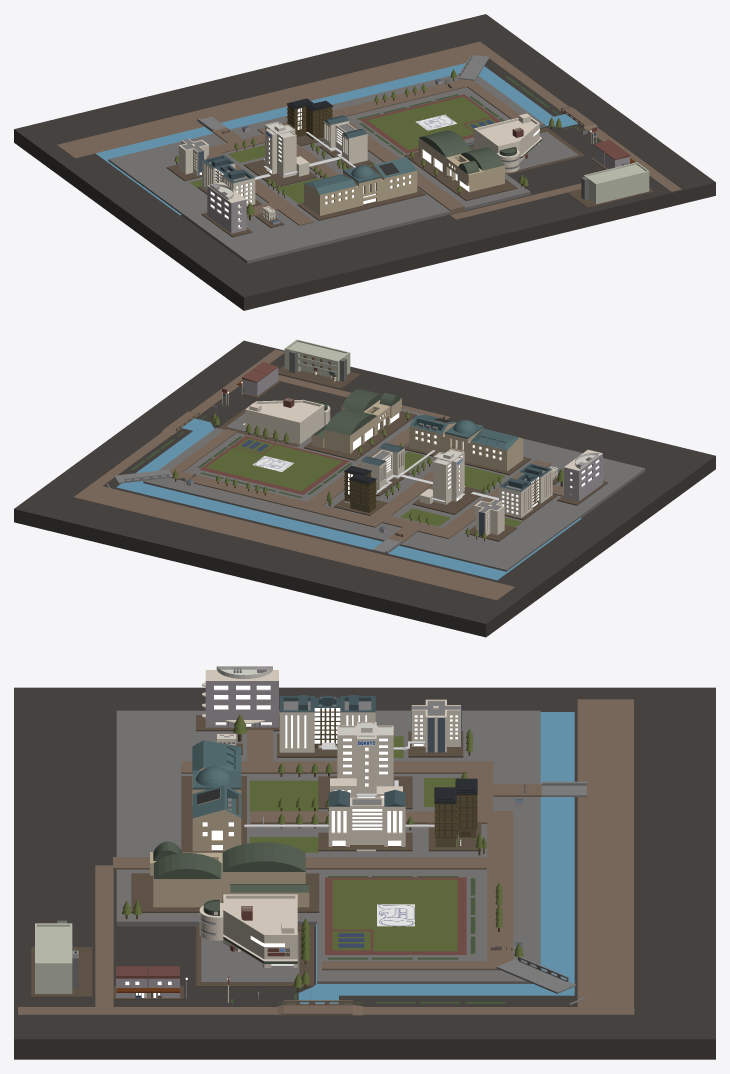
Rendered from dokkyo.gltf.
The picture shows the model from 3 angles, top to bottom: view 1: azimuth 30°, elevation 25°; view 2: azimuth 150°, elevation 25°; view 3: azimuth 270°, elevation 25°; orthographic projection. The views are drawn at different scales.
Parts seen in each view (by area): view 1: 立方体.179, 立方体.120, 平面.041, 平面.032, 平面.012, 立方体.010, 立方体.176, 立方体.133, 立方体.079, 平面.040, 立方体.087, 立方体.107 (+19 smaller); view 2: 立方体.179, 立方体.120, 平面.041, 平面.032, 平面.012, 立方体.176, 立方体.010, 立方体.079, 平面.040, 立方体.087, 立方体.133, 立方体.089 (+22 smaller); view 3: 立方体.179, 立方体.120, 平面.041, 平面.032, 平面.012, 立方体.176, 平面.040, 立方体.107, 立方体.087, 立方体.010, 立方体.097, 平面.026 (+38 smaller).
Boxes of the visible parts, <box> form: 立方体.179: <box>14,14,715,310</box>; 立方体.120: <box>108,73,544,263</box>; 平面.041: <box>57,44,486,158</box>; 平面.032: <box>96,63,578,215</box>; 平面.012: <box>189,96,490,203</box>; 立方体.010: <box>343,157,417,206</box>; 立方体.176: <box>474,113,542,161</box>; 立方体.133: <box>583,162,649,204</box>; 立方体.079: <box>304,174,356,215</box>; 平面.040: <box>470,41,681,191</box>; 立方体.087: <box>265,121,296,177</box>; 立方体.107: <box>207,182,246,233</box>; 立方体.179: <box>14,340,715,637</box>; 立方体.120: <box>143,409,645,571</box>; 平面.041: <box>84,486,514,600</box>; 平面.032: <box>116,418,581,580</box>; 平面.012: <box>206,445,522,527</box>; 立方体.176: <box>242,397,324,444</box>; 立方体.010: <box>409,414,483,462</box>; 立方体.079: <box>470,428,523,471</box>; 平面.040: <box>74,349,284,499</box>; 立方体.087: <box>433,448,464,504</box>; 立方体.133: <box>284,339,350,381</box>; 立方体.089: <box>324,403,390,453</box>; 立方体.179: <box>14,687,715,1059</box>; 立方体.120: <box>116,710,540,983</box>; 平面.041: <box>577,699,633,1006</box>; 平面.032: <box>298,712,574,1003</box>; 平面.012: <box>249,736,461,951</box>; 立方体.176: <box>223,894,297,967</box>; 平面.040: <box>18,1007,634,1014</box>; 立方体.107: <box>205,670,278,727</box>; 立方体.087: <box>337,722,393,797</box>; 立方体.010: <box>192,770,241,851</box>; 立方体.097: <box>279,695,340,752</box>; 平面.026: <box>113,857,486,869</box>.
Bounding box in the file's own units: 75.57 × 9.59 × 63.75.
34 materials, 2 textured.
